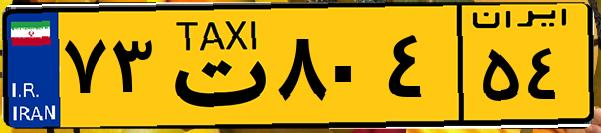0: (330, 28, 385, 110)
3: (110, 28, 158, 98)
4: (385, 28, 445, 110), (525, 38, 570, 115)
5: (475, 38, 525, 113)
7: (57, 26, 110, 100)
8: (270, 28, 330, 110)
ت: (158, 12, 270, 120)
